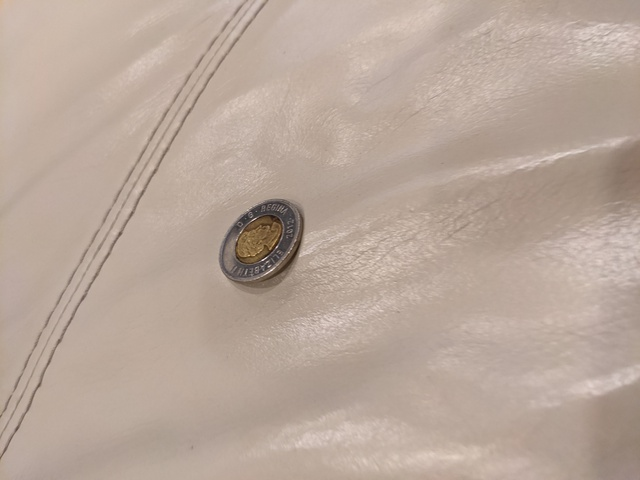twonie: (180, 178, 325, 277)
